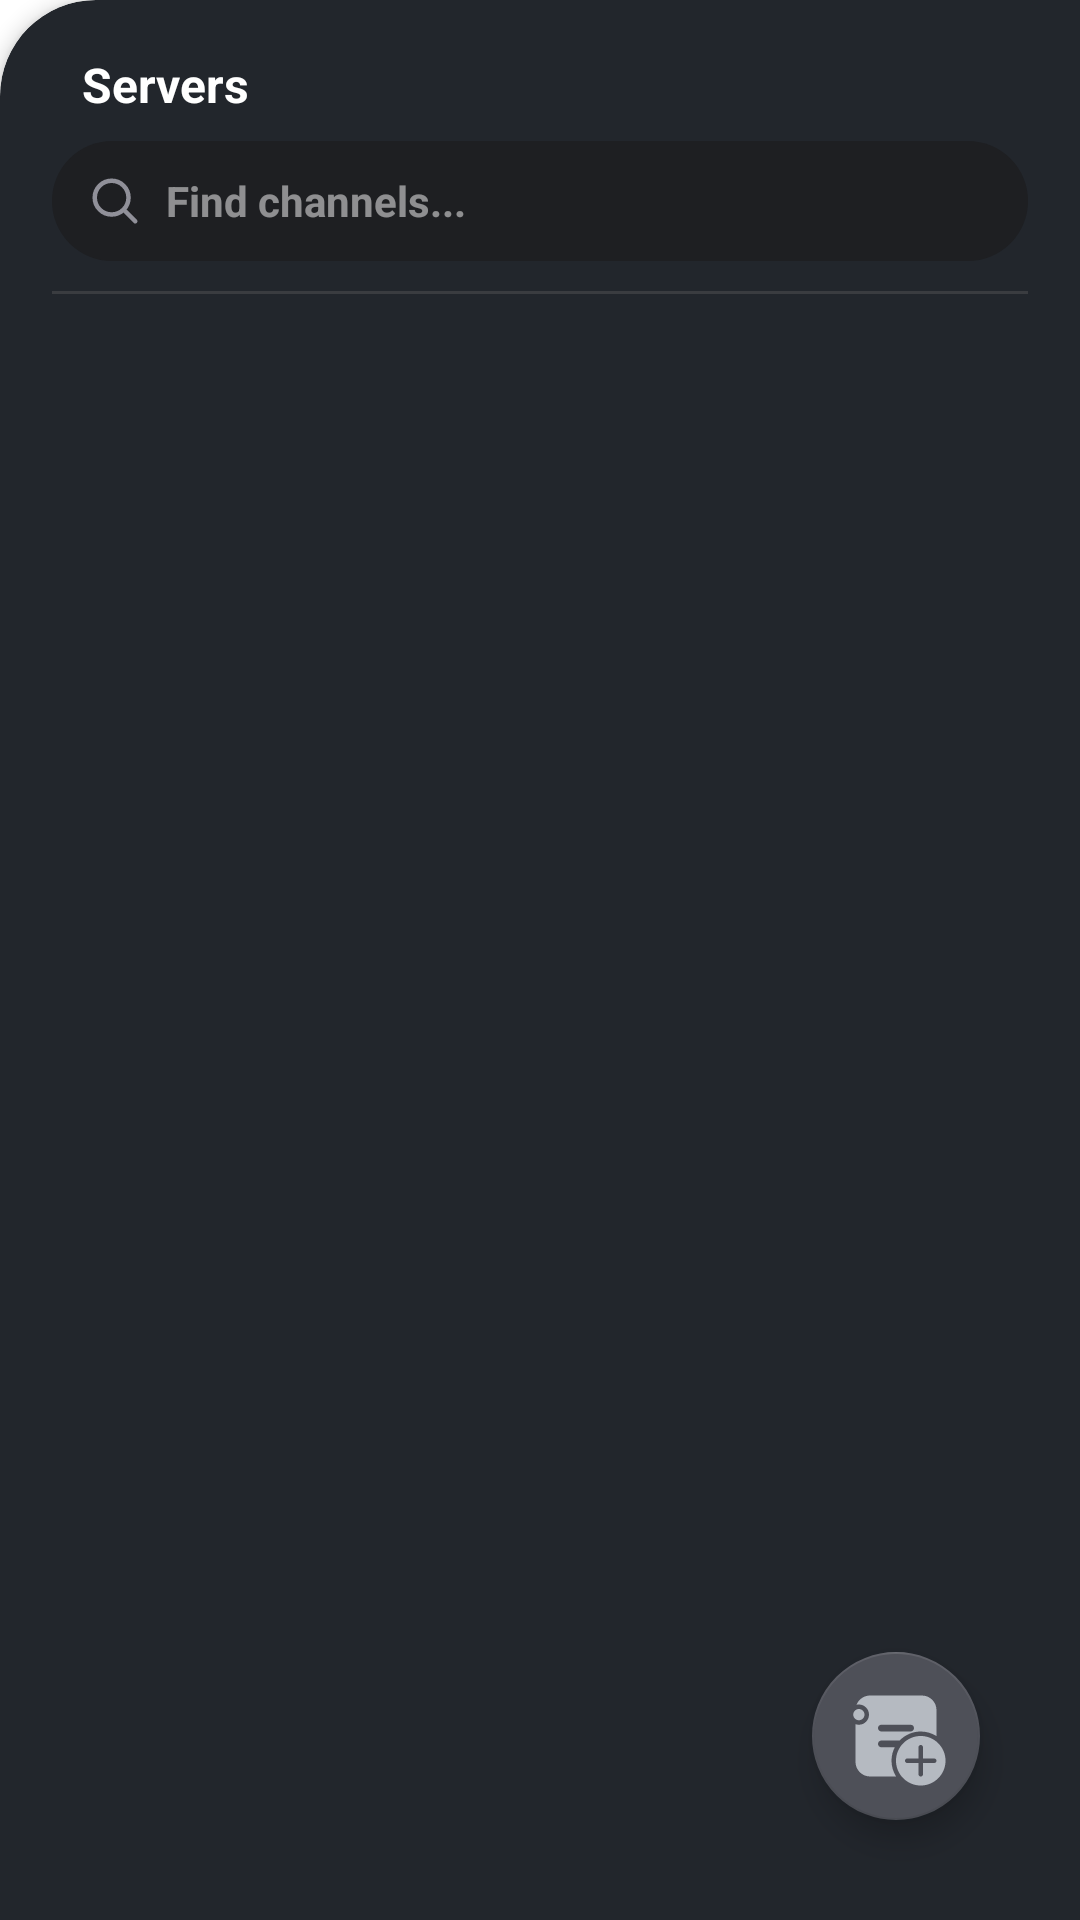

Point at icon controls on the screen. Image size 1080px×1920px, points as (x=x, y=y).
channel add: (x=896, y=1736)
Search icon: (x=115, y=201)
